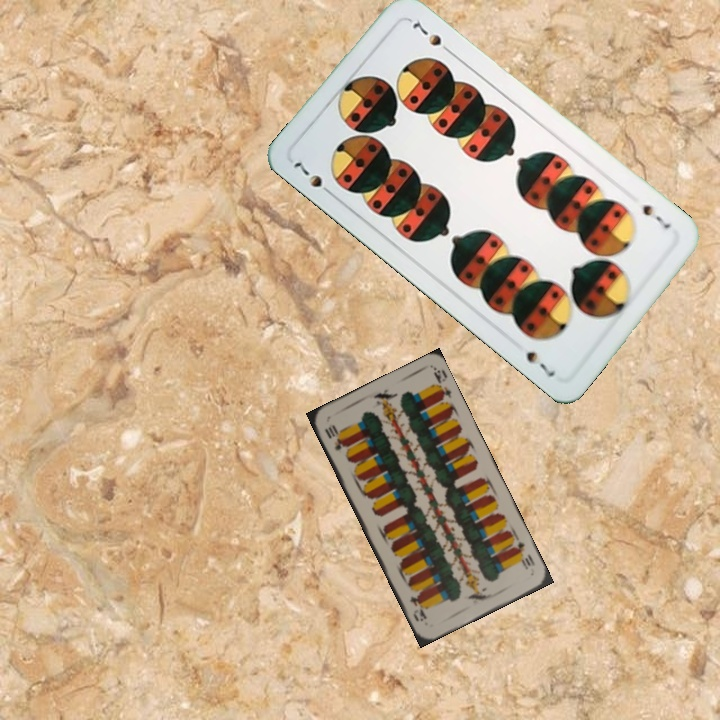E10: (321, 420, 350, 455), (510, 537, 538, 572)
S7: (289, 157, 337, 200), (638, 199, 673, 232)
